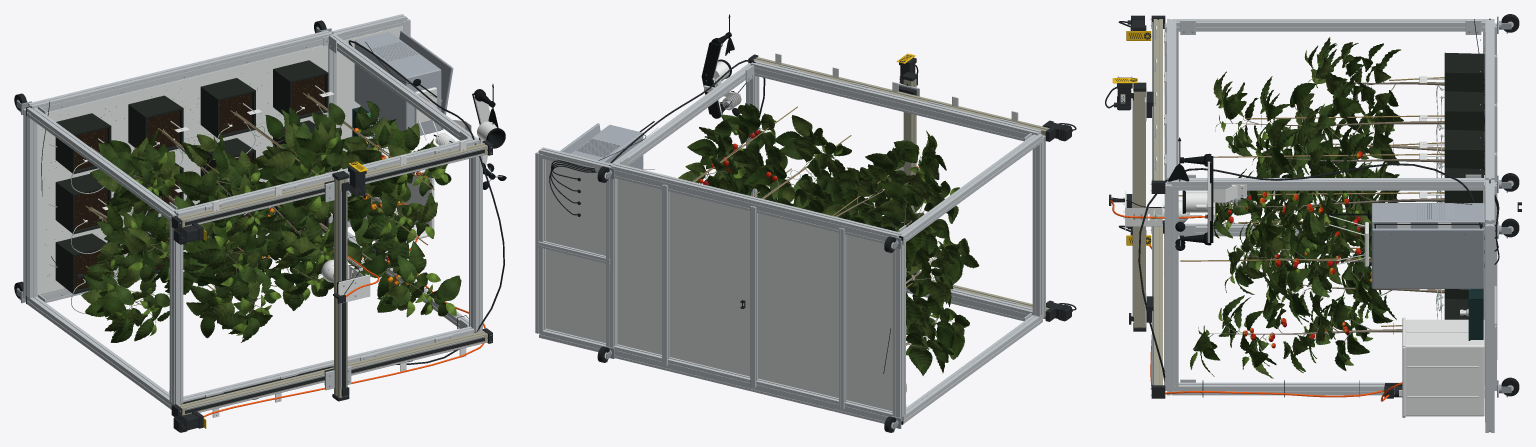
File: inspection-gantry.glb
The picture shows the model from 3 angles, left to right: view 1: azimuth 30°, elevation 25°; view 2: azimuth 150°, elevation 25°; view 3: azimuth 270°, elevation 25°; orthographic projection. The views are drawn at different scales.
Visible parts, largest first — view 1: DEVICE_ROOT_NewPlants | Corrugated broad leaves, DEVICE_ROOT_Satin extruded aluminium, DEVICE_ROOT_Off-white powder coating, DEVICE_ROOT_Charcoal square nursery pots, DEVICE_ROOT_Weatherproof control cabinet, DEVICE_ROOT_Potting compost, DEVICE_ROOT_Anodised linear module, DEVICE_ROOT_Black anodised metal, DEVICE_ROOT_Zinc plated fasteners, DEVICE_ROOT_Cable chain PA and rubber, GANTRY_X_Anodised linear module, DEVICE_ROOT_NewPlants | Grey brown fissured bark (+10 smaller); view 2: DEVICE_ROOT_Off-white powder coating, DEVICE_ROOT_Satin extruded aluminium, DEVICE_ROOT_NewPlants | Corrugated broad leaves, DEVICE_ROOT_Weatherproof control cabinet, DEVICE_ROOT_Cable chain PA and rubber, DEVICE_ROOT_Anodised linear module, DEVICE_ROOT_Glossy black instrument plastic, DEVICE_ROOT_Black anodised metal, DEVICE_ROOT_NewPlants | Grey brown fissured bark, GANTRY_X_Anodised linear module, GANTRY_X_Black anodised metal, DEVICE_ROOT_NewPlants | Veins petioles and new shoots; view 3: DEVICE_ROOT_NewPlants | Corrugated broad leaves, DEVICE_ROOT_Satin extruded aluminium, DEVICE_ROOT_Off-white powder coating, DEVICE_ROOT_Weatherproof control cabinet, DEVICE_ROOT_Charcoal square nursery pots, DEVICE_ROOT_NewPlants | Grey brown fissured bark, DEVICE_ROOT_Anodised linear module, DEVICE_ROOT_Cable chain PA and rubber, GANTRY_X_Anodised linear module, DEVICE_ROOT_Zinc plated fasteners, DEVICE_ROOT_Bamboo plant supports, DEVICE_ROOT_Black anodised metal (+9 smaller).
Boxes of the visible parts, <box> form: DEVICE_ROOT_NewPlants | Corrugated broad leaves: <box>81,101,461,342</box>; DEVICE_ROOT_Satin extruded aluminium: <box>23,14,482,409</box>; DEVICE_ROOT_Off-white powder coating: <box>17,26,496,417</box>; DEVICE_ROOT_Charcoal square nursery pots: <box>55,60,328,294</box>; DEVICE_ROOT_Weatherproof control cabinet: <box>354,30,453,143</box>; DEVICE_ROOT_Potting compost: <box>74,75,324,290</box>; DEVICE_ROOT_Anodised linear module: <box>178,142,487,415</box>; DEVICE_ROOT_Black anodised metal: <box>76,41,492,432</box>; DEVICE_ROOT_Zinc plated fasteners: <box>16,27,502,417</box>; DEVICE_ROOT_Cable chain PA and rubber: <box>14,20,504,431</box>; GANTRY_X_Anodised linear module: <box>334,178,347,397</box>; DEVICE_ROOT_NewPlants | Grey brown fissured bark: <box>88,93,432,320</box>; DEVICE_ROOT_Off-white powder coating: <box>546,44,1018,428</box>; DEVICE_ROOT_Satin extruded aluminium: <box>535,60,1045,423</box>; DEVICE_ROOT_NewPlants | Corrugated broad leaves: <box>678,103,979,375</box>; DEVICE_ROOT_Weatherproof control cabinet: <box>560,95,740,169</box>; DEVICE_ROOT_Cable chain PA and rubber: <box>549,60,1076,432</box>; DEVICE_ROOT_Anodised linear module: <box>753,57,1049,319</box>; DEVICE_ROOT_Glossy black instrument plastic: <box>639,14,739,131</box>; DEVICE_ROOT_Black anodised metal: <box>577,54,1072,321</box>; DEVICE_ROOT_NewPlants | Grey brown fissured bark: <box>692,128,951,347</box>; GANTRY_X_Anodised linear module: <box>903,78,916,221</box>; GANTRY_X_Black anodised metal: <box>898,55,917,275</box>; DEVICE_ROOT_NewPlants | Veins petioles and new shoots: <box>682,115,966,363</box>; DEVICE_ROOT_NewPlants | Corrugated broad leaves: <box>1190,37,1403,378</box>; DEVICE_ROOT_Satin extruded aluminium: <box>1164,19,1497,432</box>; DEVICE_ROOT_Off-white powder coating: <box>1155,21,1513,421</box>; DEVICE_ROOT_Weatherproof control cabinet: <box>1230,197,1484,289</box>; DEVICE_ROOT_Charcoal square nursery pots: <box>1444,52,1484,319</box>; DEVICE_ROOT_NewPlants | Grey brown fissured bark: <box>1207,56,1444,350</box>; DEVICE_ROOT_Anodised linear module: <box>1153,19,1162,385</box>; DEVICE_ROOT_Cable chain PA and rubber: <box>1118,14,1519,397</box>; GANTRY_X_Anodised linear module: <box>1134,91,1145,327</box>; DEVICE_ROOT_Zinc plated fasteners: <box>1132,16,1511,397</box>; DEVICE_ROOT_Bamboo plant supports: <box>1178,77,1444,326</box>; DEVICE_ROOT_Black anodised metal: <box>1127,15,1510,398</box>.
Size of the model in its own units: 3.16 by 1.99 by 2.66.
